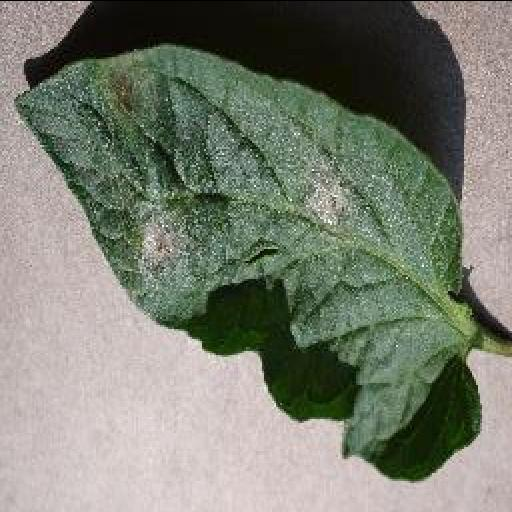disease_tomato: (15, 42, 481, 480)
